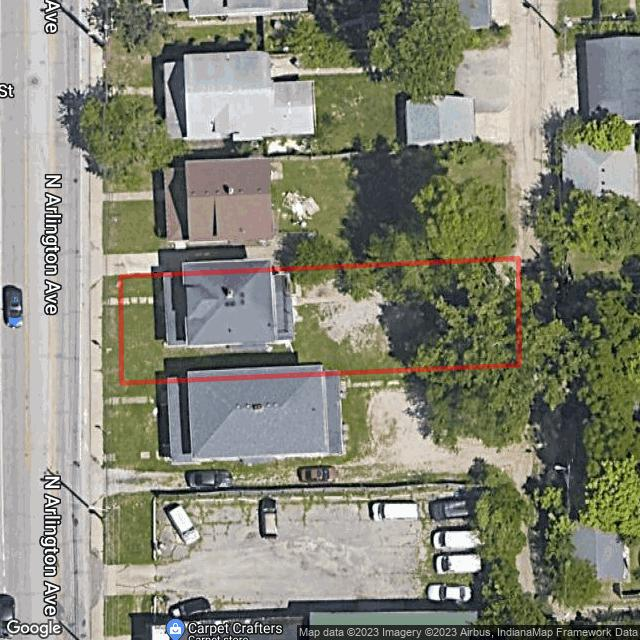Driveway: (124, 293, 164, 305)
Extra Driveway: (90, 276, 103, 384), (104, 298, 118, 306)
Extra Lawn: (103, 304, 119, 384), (103, 275, 118, 299)
House: (161, 272, 294, 348)
Other: (292, 280, 388, 351)
